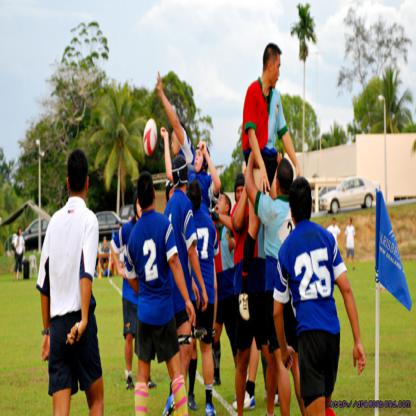Ball: (144, 121, 157, 154)
